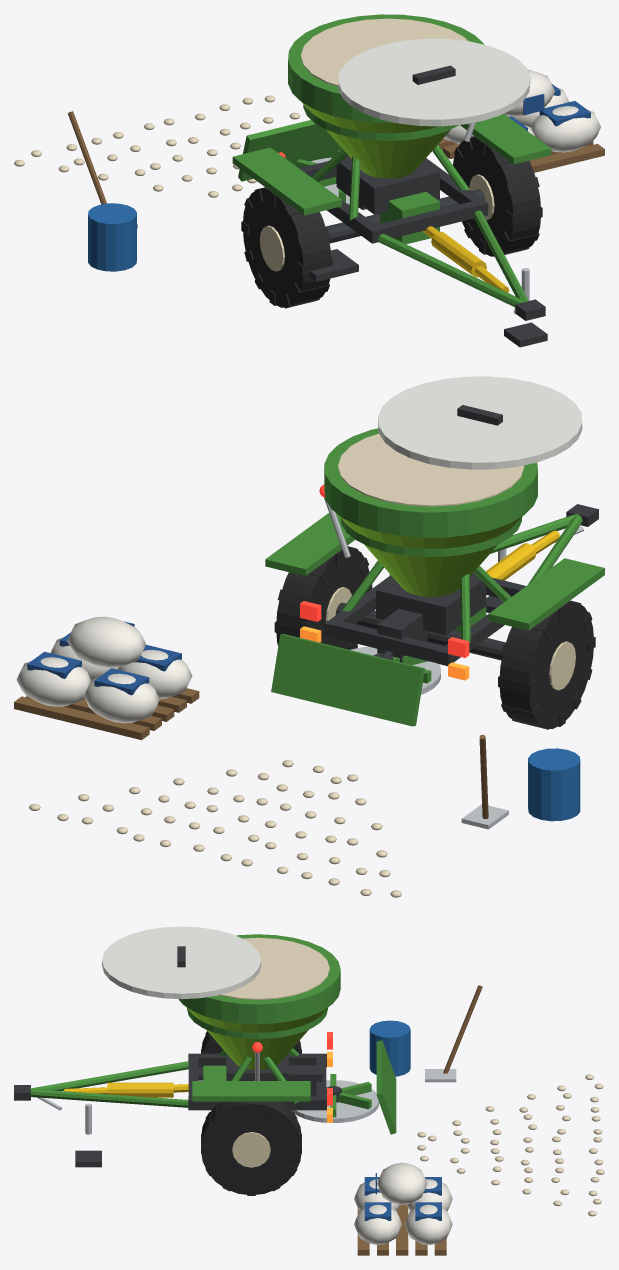
File: broadcaster.glb
3 renders of one model, top to bottom at view 1: azimuth 30°, elevation 25°; view 2: azimuth 150°, elevation 25°; view 3: azimuth 270°, elevation 25°, orthographic. The views are drawn at different scales.
Parts seen in each view (by area): view 1: SpreaderBody, FertilizerProps, SpinnerDisc; view 2: SpreaderBody, FertilizerProps, SpinnerDisc; view 3: SpreaderBody, FertilizerProps, SpinnerDisc.
Boxes of the visible parts, x1,y1,x2,y2 form: SpreaderBody: [232, 14, 551, 347]; FertilizerProps: [14, 69, 604, 271]; SpinnerDisc: [296, 149, 358, 207]; SpreaderBody: [265, 376, 604, 729]; FertilizerProps: [14, 616, 580, 897]; SpinnerDisc: [350, 646, 440, 694]; SpreaderBody: [14, 926, 396, 1195]; FertilizerProps: [354, 985, 604, 1255]; SpinnerDisc: [291, 1074, 379, 1122].
Size of the model in its own units: 3.96 by 1.77 by 4.9.
